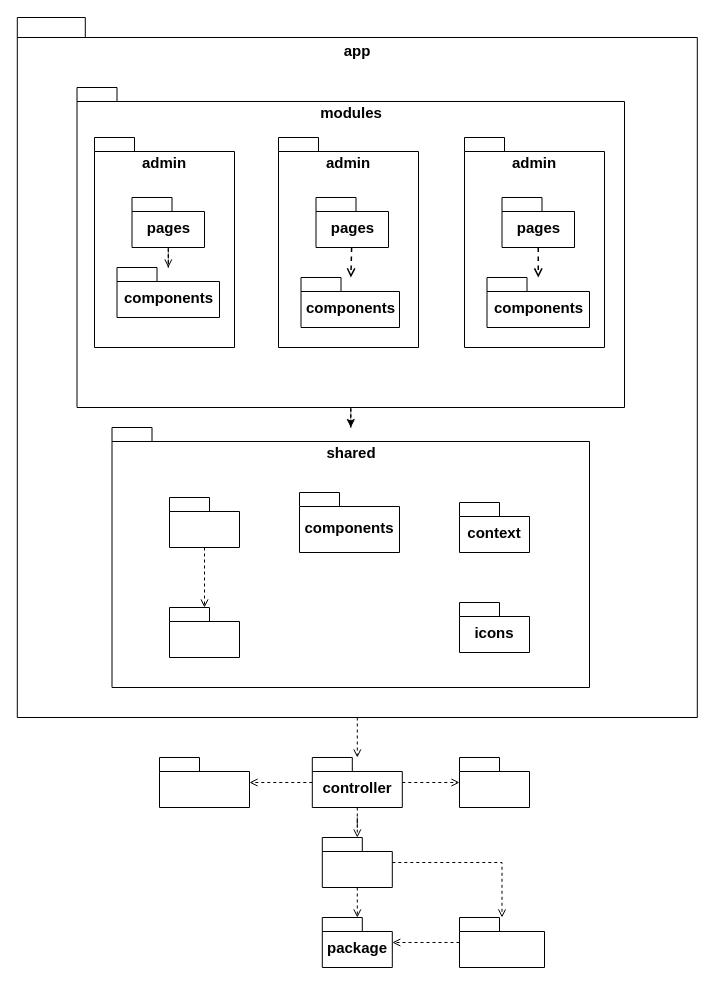
Some shapes in this 715 by 985 pixel diagram are drawn without their labels. Each missing label, with the centre of its shape:
"api" belongs at point (204, 522).
"config" belongs at point (204, 782).
"dto" belongs at point (494, 782).
"repository" belongs at point (501, 942).
"service" belongs at point (356, 862).
"services" belongs at point (204, 632).
